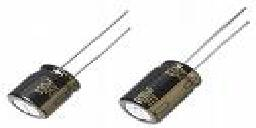Electrolytic Capacitor: (122, 3, 253, 128), (10, 57, 86, 125)
